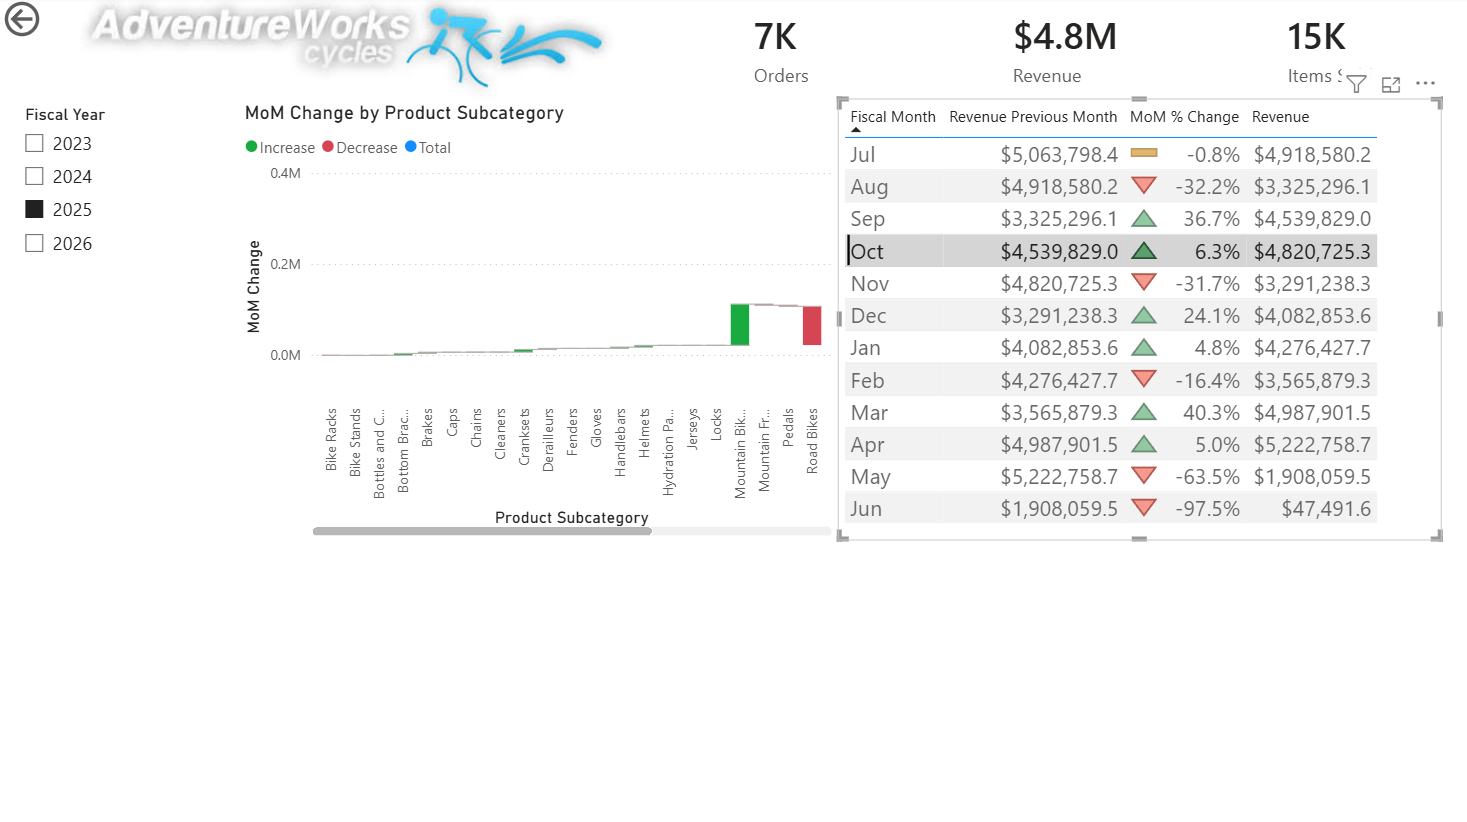

What the dashboard file says about the page in this screenshot:
{"tool":"powerbi","page":{"name":"Sales Trends","canvas":[1280,720],"ordinal":1},"visuals":[{"type":"image","box":[8.9,0,586.8,90.4],"z":0},{"type":"cardVisual","fields":{"Data":["Order Items.Orders"]},"box":[629.8,0,133.4,90.4],"z":1000},{"type":"cardVisual","fields":{"Data":["Order Items.Revenue"]},"box":[855.4,0,175.1,90.5],"z":2000},{"type":"cardVisual","fields":{"Data":["Order Items.Items Sold"]},"box":[1093.7,0,133.1,90.6],"z":3000},{"type":"slicer","fields":{"Values":["Calendar.Fiscal Year"]},"box":[9.3,89.6,199.2,193],"z":4000},{"type":"waterfallChart","fields":{"Category":["Calendar.Fiscal Month","Products.Product Subcategory"],"Y":["Order Items.MoM Change"]},"box":[208.4,91.1,520.3,382.9],"z":5000},{"type":"tableEx","fields":{"Values":["Calendar.Fiscal Month","Order Items.Revenue Previous Month","Order Items.MoM % Change","Order Items.Revenue"]},"box":[728.8,89.6,525,384.5],"z":6000},{"type":"actionButton","box":[0,0,100,40],"z":7000}]}

Visuals, with their boxes in screenshot pixels (x1, y1, x2, y2), scaled from the page's 1280x720 canvas onto the 1467x822 screenshot:
image: locate(10, 0, 683, 103)
cardVisual - Order Items.Orders: locate(722, 0, 875, 103)
cardVisual - Order Items.Revenue: locate(980, 0, 1181, 103)
cardVisual - Order Items.Items Sold: locate(1253, 0, 1406, 103)
slicer - Calendar.Fiscal Year: locate(11, 102, 239, 323)
waterfallChart - Calendar.Fiscal Month x Products.Product Subcategory: locate(239, 104, 835, 541)
tableEx - Calendar.Fiscal Month x Order Items.Revenue Previous Month: locate(835, 102, 1437, 541)
actionButton: locate(0, 0, 115, 46)
